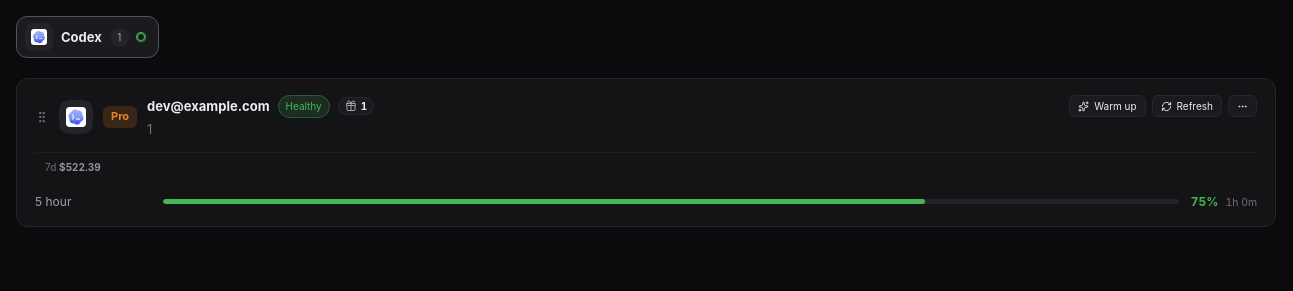
Test: AccountsSurface component › closes the overflow menu on Escape
Click the button named "More actions for dev@example.com" at (1242, 106), box [1228,95,1257,117]
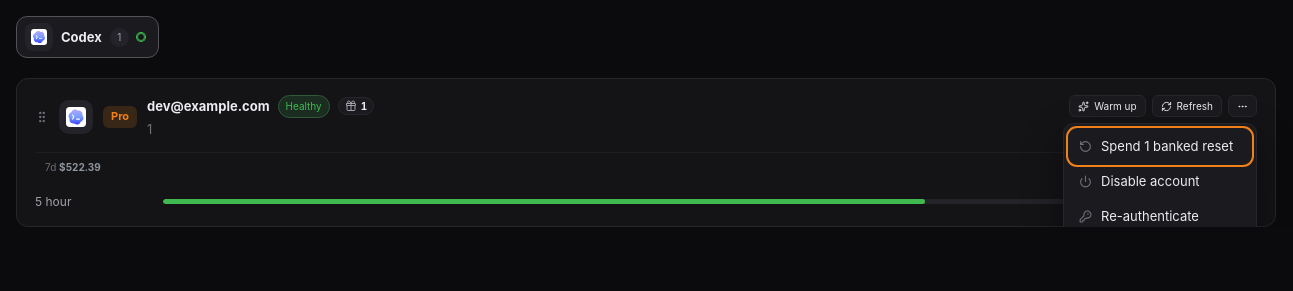
Result: the menu is shown at [1063,123,1257,274]
Press Escape
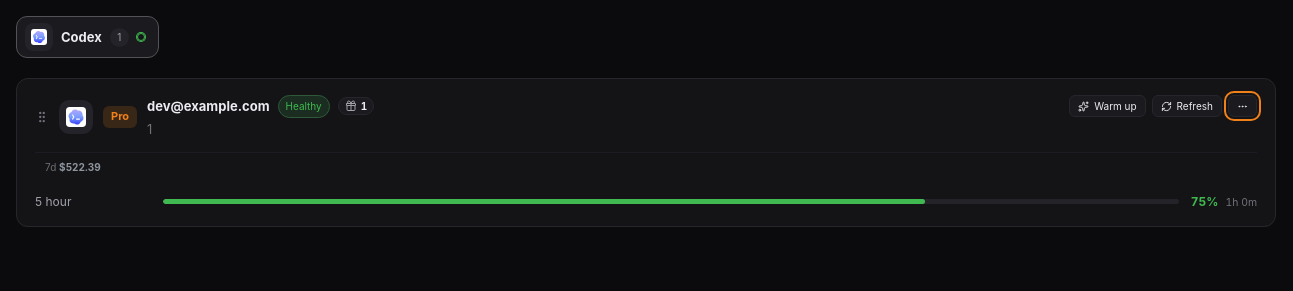
Result: the menu is gone
